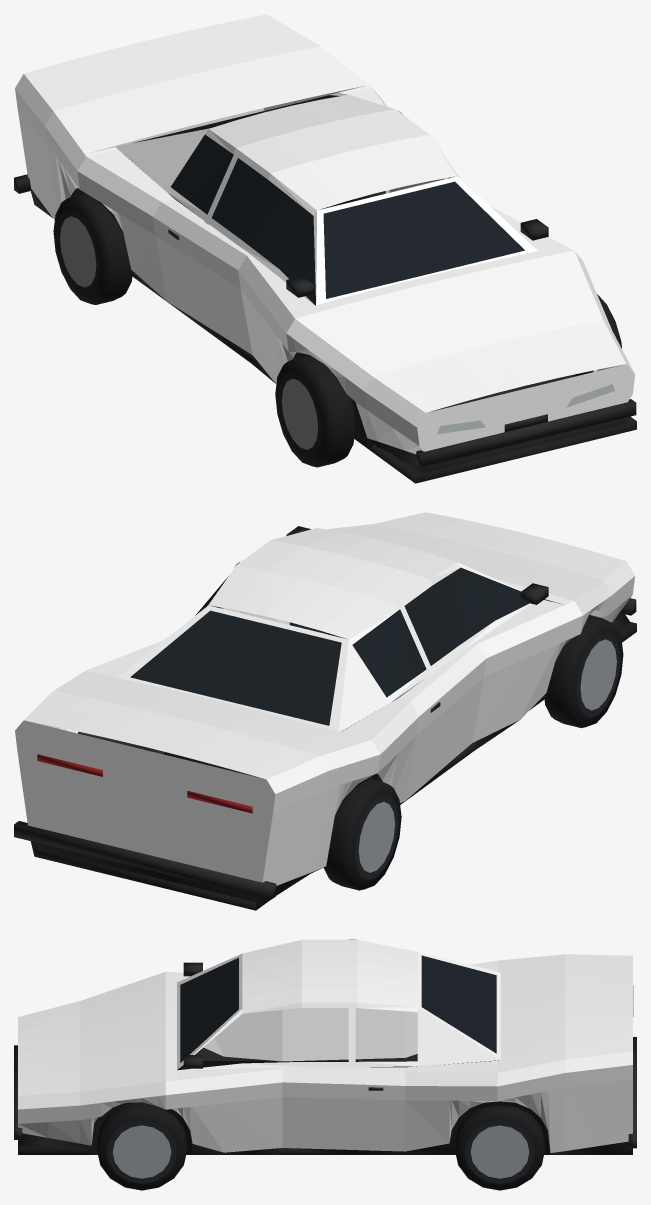
Rendered from corsalto_pimenta.glb.
The picture shows the model from 3 angles, top to bottom: view 1: azimuth 30°, elevation 25°; view 2: azimuth 150°, elevation 25°; view 3: azimuth 270°, elevation 25°; orthographic projection. The views are drawn at different scales.
Parts seen in each view (by area): view 1: Body_Paint, Body_Details, Mount_FrontLeft_Wheel_Details, Mount_RearLeft_Wheel_Details; view 2: Body_Paint, Body_Details, Mount_RearLeft_Wheel_Details, Mount_FrontLeft_Wheel_Details; view 3: Body_Paint, Body_Details, Mount_FrontRight_Wheel_Details, Mount_RearRight_Wheel_Details.
Boxes of the visible parts, x1,y1,x2,y2 form: Body_Paint: (15, 14, 635, 454); Body_Details: (14, 95, 636, 483); Mount_FrontLeft_Wheel_Details: (275, 354, 355, 467); Mount_RearLeft_Wheel_Details: (53, 193, 132, 304); Body_Paint: (15, 512, 634, 885); Body_Details: (14, 526, 636, 910); Mount_RearLeft_Wheel_Details: (323, 778, 401, 890); Mount_FrontLeft_Wheel_Details: (544, 615, 623, 728); Body_Paint: (18, 939, 632, 1152); Body_Details: (14, 955, 636, 1154); Mount_FrontRight_Wheel_Details: (96, 1102, 187, 1190); Mount_RearRight_Wheel_Details: (454, 1105, 545, 1190).
Size of the model in its own units: 1.9 by 1.23 by 4.2.
2 materials, 1 textured.
